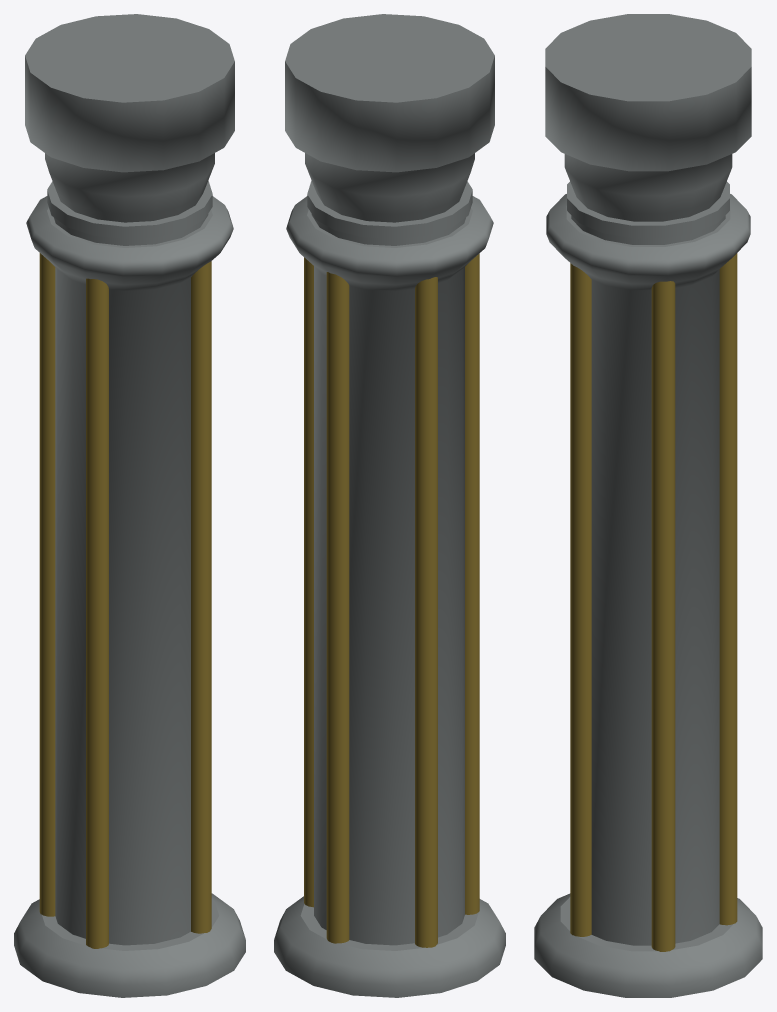
Rendered from Poutre_01 1.fbx.
The picture shows the model from 3 angles, left to right: view 1: azimuth 30°, elevation 25°; view 2: azimuth 150°, elevation 25°; view 3: azimuth 270°, elevation 25°; orthographic projection.
Visible parts, largest first — view 1: Cylinder.002; view 2: Cylinder.002; view 3: Cylinder.002.
Part boxes in pixels (x1,y1,x2,y2): Cylinder.002: (14, 14, 245, 997); Cylinder.002: (274, 14, 505, 997); Cylinder.002: (534, 14, 762, 997).
Size of the model in its own units: 107 by 460 by 107.
